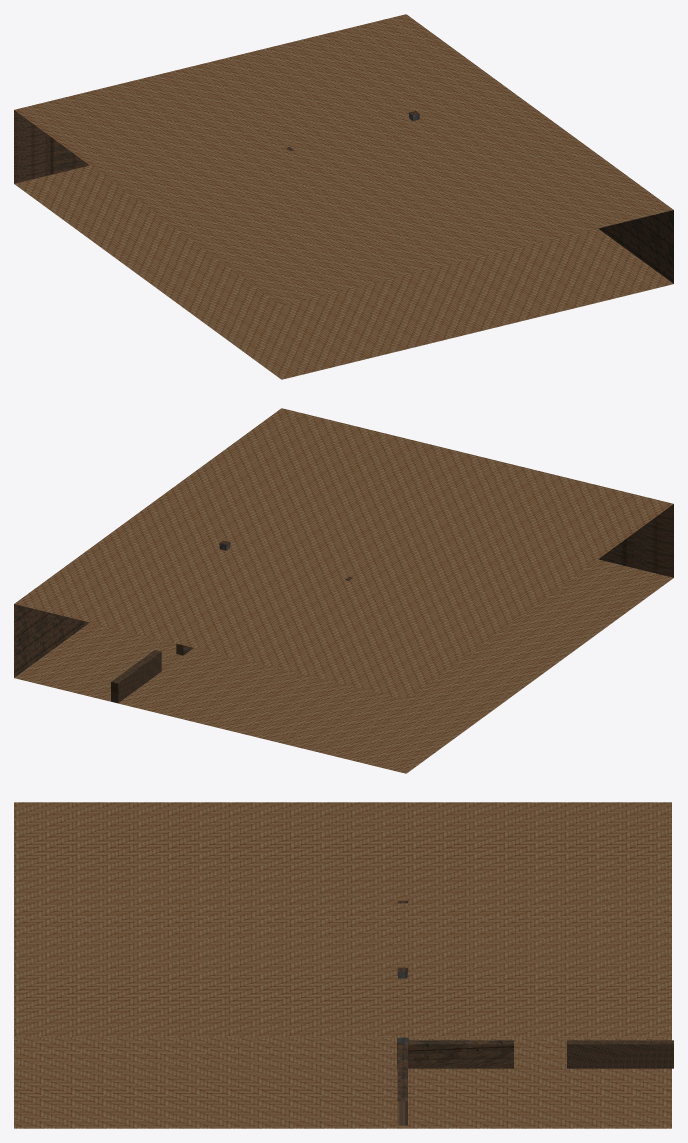
File: room.glb
The picture shows the model from 3 angles, top to bottom: view 1: azimuth 30°, elevation 25°; view 2: azimuth 150°, elevation 25°; view 3: azimuth 270°, elevation 25°; orthographic projection. The views are drawn at different scales.
Visible parts, largest first — view 1: Cube; view 2: Cube; view 3: Cube.
Boxes of the visible parts, box(x1,y1,x2,y2) form: Cube: box(14, 14, 673, 379); Cube: box(14, 408, 673, 773); Cube: box(14, 802, 673, 1128).
Size of what is drawn, in the model's own units: 45.05 by 8.81 by 53.4.
Materials: 3 (3 with a texture image).
